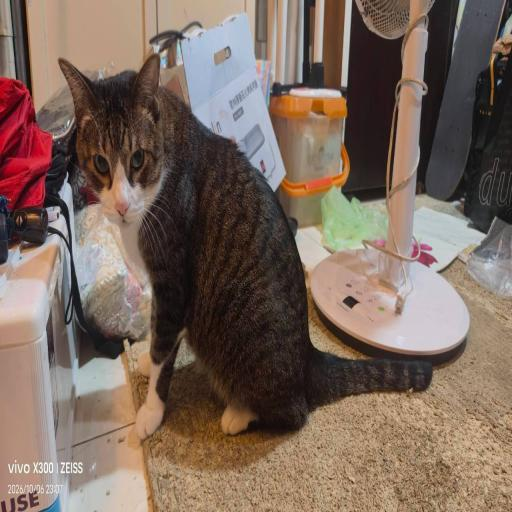cat: (93, 99, 302, 424)
